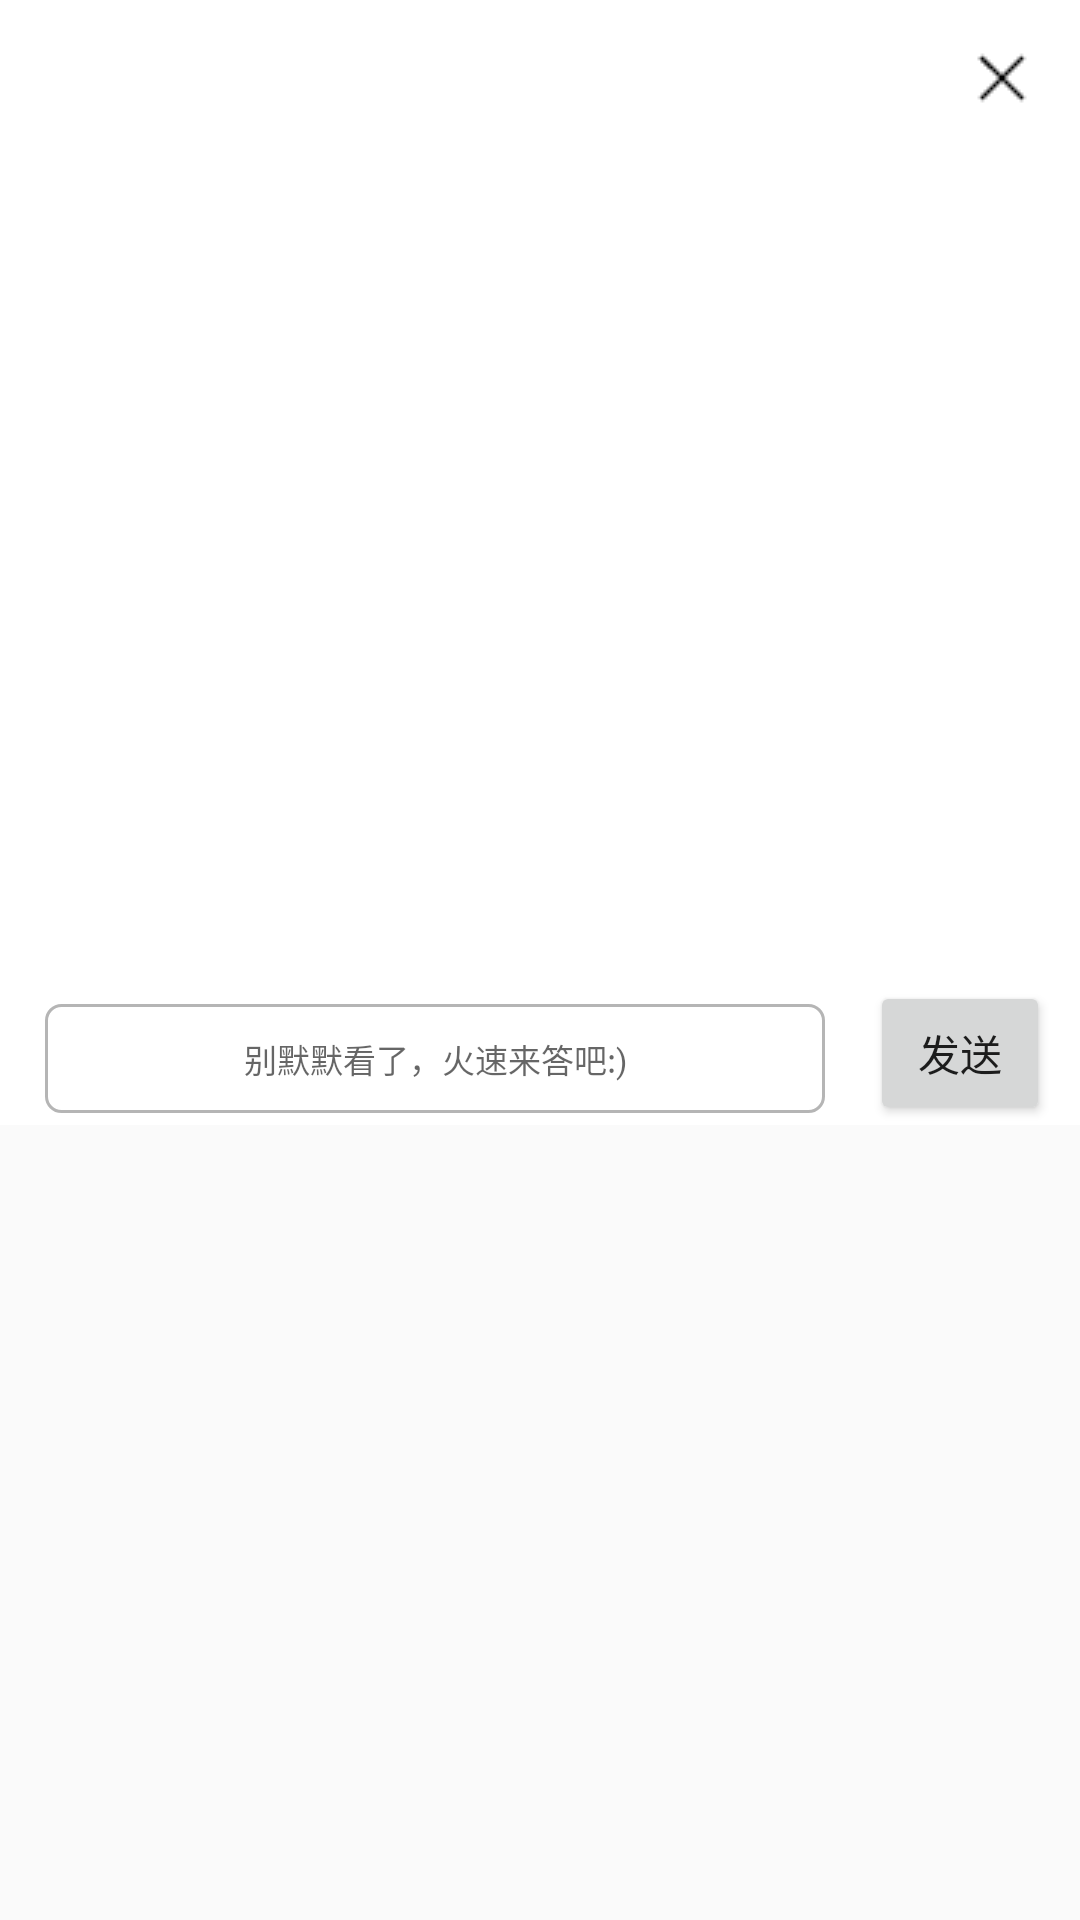

Point at icon controls on the screen. Image size 1080 x 1920, points as (x,y).
comment dismiss: (1001,78)
